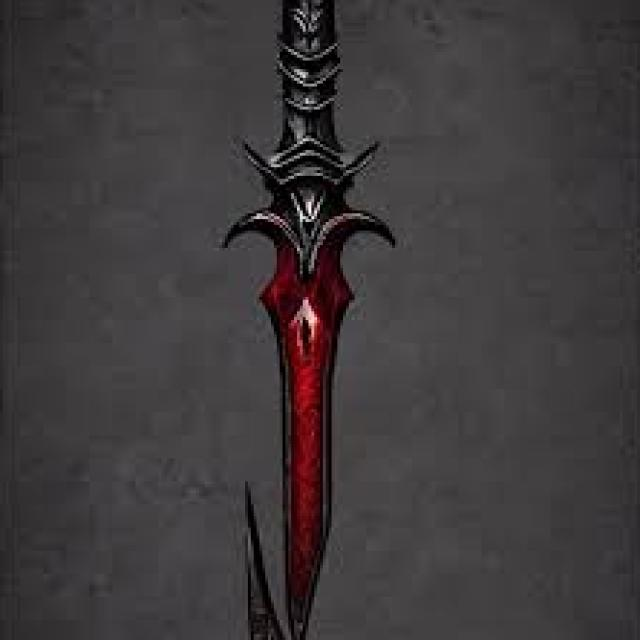Gun: (184, 0, 410, 640)
